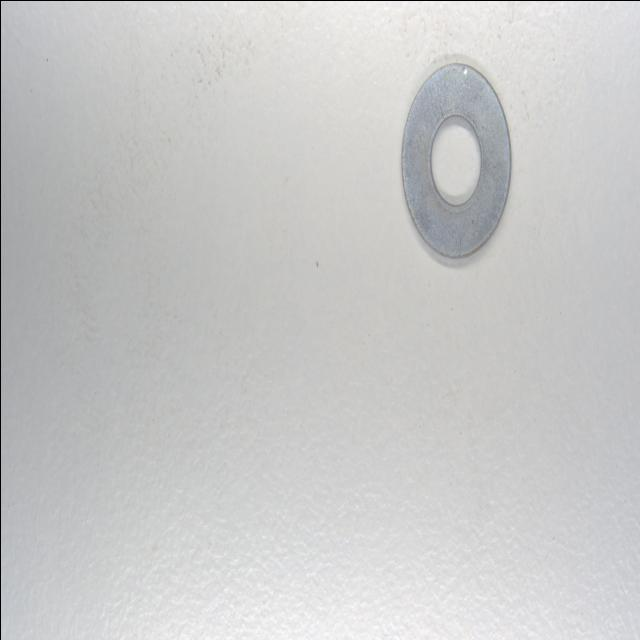washer: (400, 59, 512, 260)
